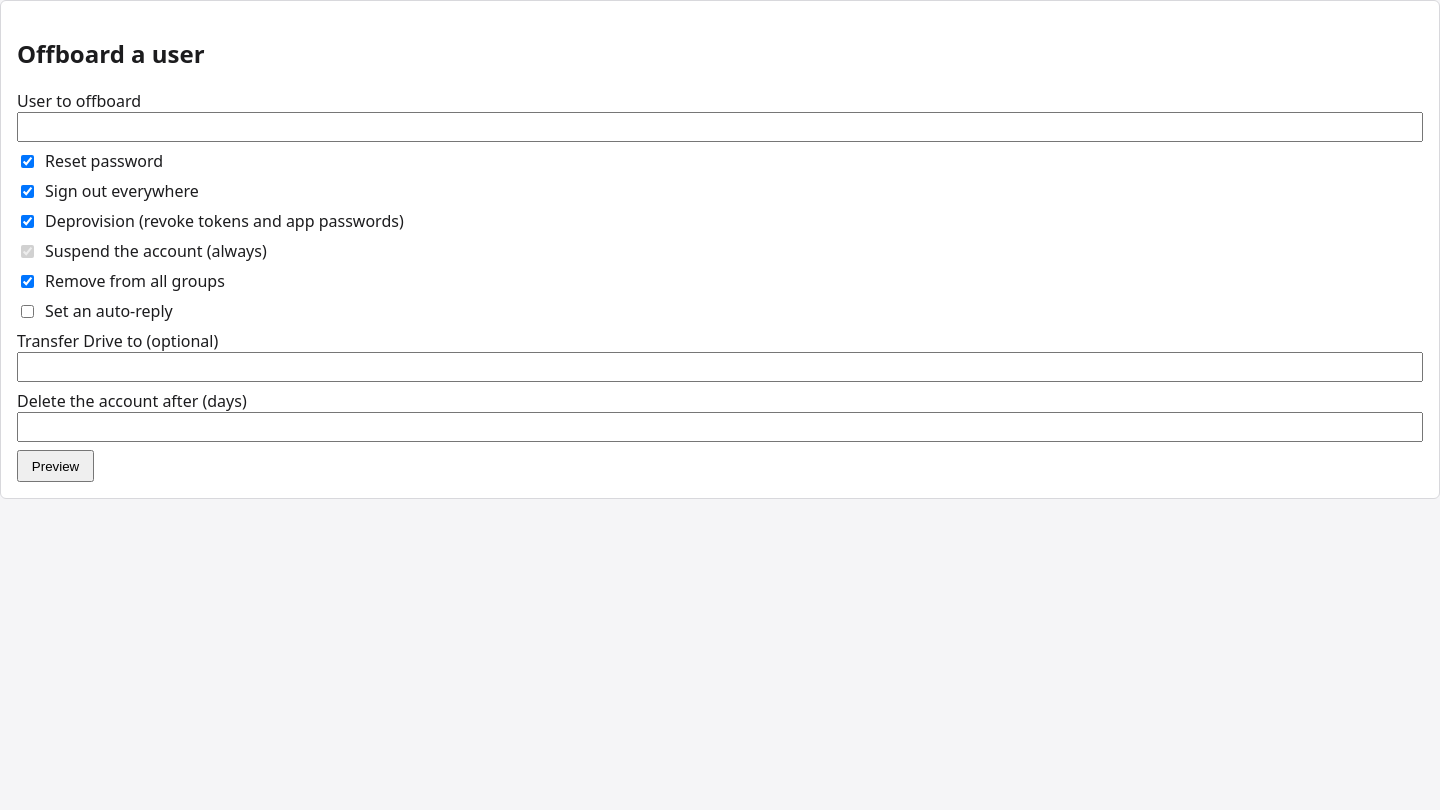
Test: the delete-days field reveals the email confirmation
Expected: the field labelled "Type the user's email again" is not shown
In the number field labelled "Delete the account after (days)": x=720, y=427 [17,412,1423,442], type "30"
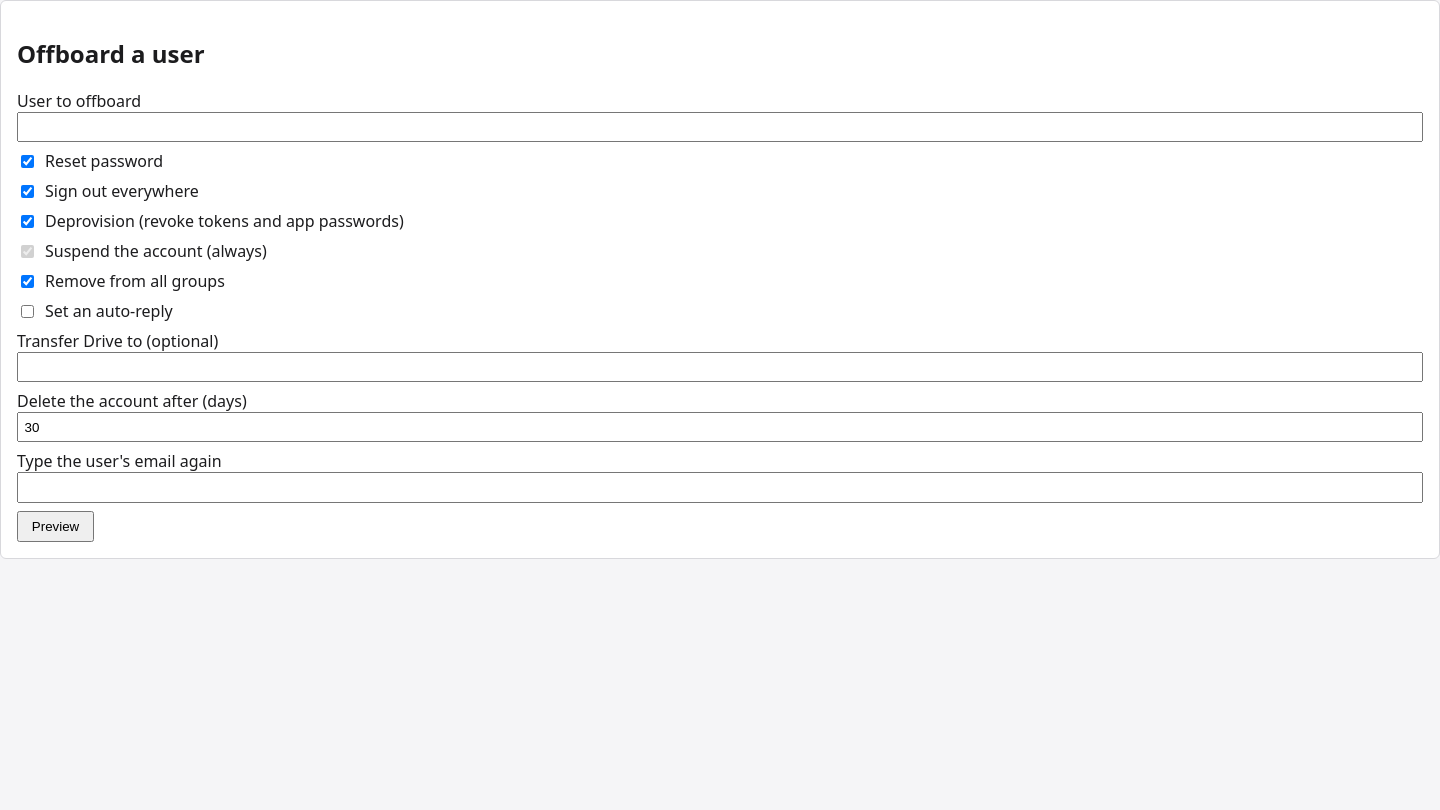
Now the field labelled "Type the user's email again" is shown, box [17,472,1423,503]
